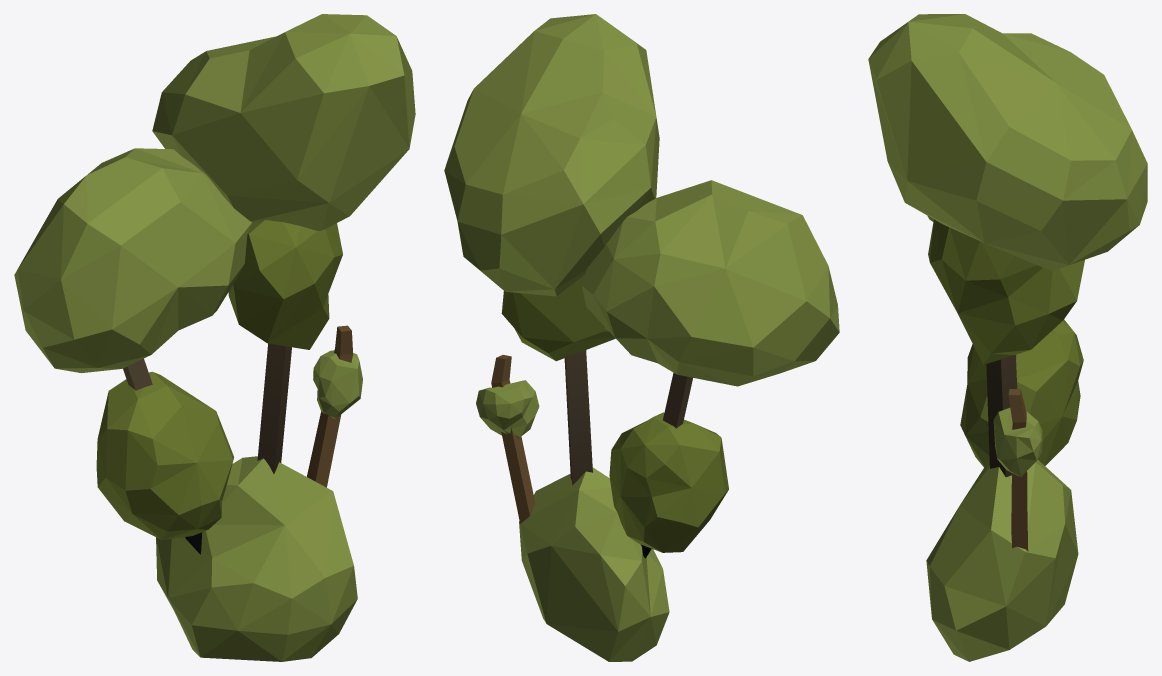
The model's file is EA03_Nature_Bush_01d.glb.
3 renders of one model, left to right at view 1: azimuth 30°, elevation 25°; view 2: azimuth 150°, elevation 25°; view 3: azimuth 270°, elevation 25°, orthographic. The views are drawn at different scales.
Visible parts, largest first — view 1: EA03_Nature_Bush_01d; view 2: EA03_Nature_Bush_01d; view 3: EA03_Nature_Bush_01d.
Boxes of the visible parts, x1=… form: EA03_Nature_Bush_01d: x1=14, y1=14, x2=415, y2=661; EA03_Nature_Bush_01d: x1=444, y1=14, x2=839, y2=661; EA03_Nature_Bush_01d: x1=868, y1=14, x2=1147, y2=661.
Size of the model in its own units: 2.32 by 3.61 by 1.43.
Materials: 1 (1 with a texture image).
